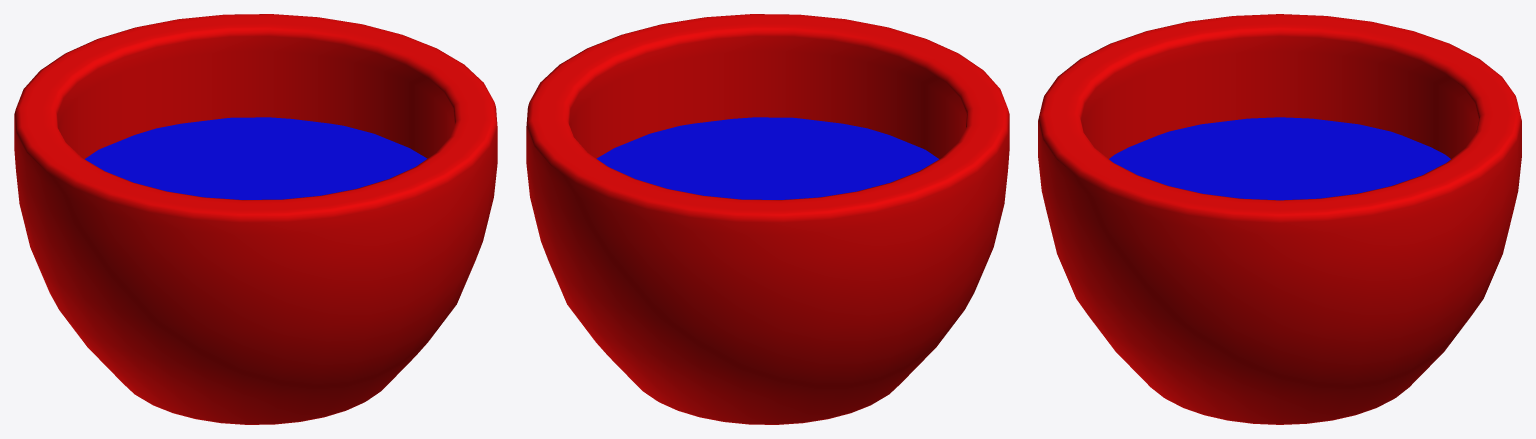
Rendered from reis_high.fbx.
The picture shows the model from 3 angles, left to right: view 1: azimuth 30°, elevation 25°; view 2: azimuth 150°, elevation 25°; view 3: azimuth 270°, elevation 25°; orthographic projection.
Parts seen in each view (by area): view 1: pPipe1, pCylinder2; view 2: pPipe1, pCylinder2; view 3: pPipe1, pCylinder2.
Boxes of the visible parts, x1,y1,x2,y2 form: pPipe1: [14, 14, 497, 424]; pCylinder2: [85, 117, 427, 199]; pPipe1: [526, 14, 1009, 424]; pCylinder2: [596, 117, 938, 199]; pPipe1: [1038, 14, 1521, 424]; pCylinder2: [1109, 117, 1450, 200].
Size of the model in its own units: 1.96 by 1.14 by 1.96.
